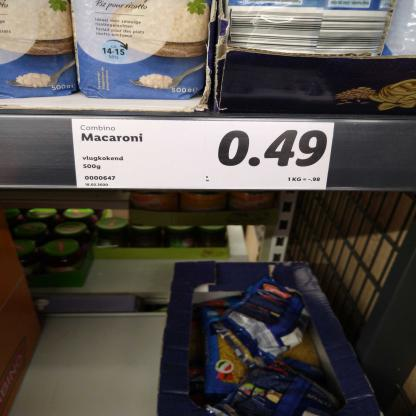prtg: (73, 119, 336, 190)
